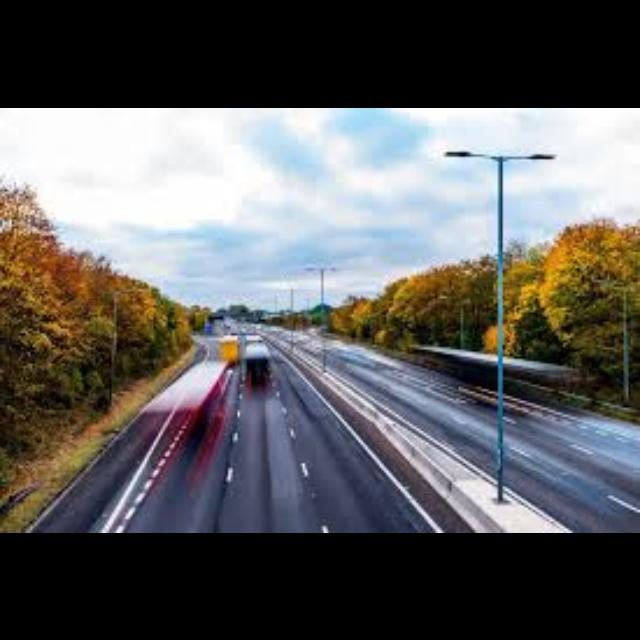Street-Lamp: (436, 133, 568, 507)
